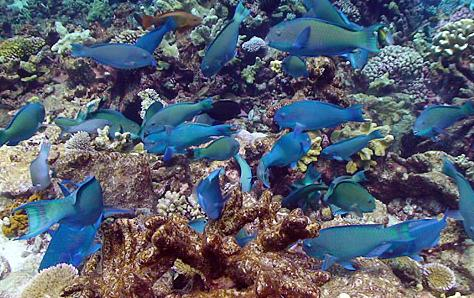Scaridae -Parrotfishes-: (16, 183, 110, 245), (261, 14, 380, 55), (300, 222, 411, 265), (202, 0, 248, 83), (136, 90, 217, 134), (68, 36, 155, 75), (273, 98, 362, 132), (438, 160, 474, 244), (0, 97, 49, 153), (411, 100, 474, 135), (192, 166, 226, 227), (287, 243, 288, 244), (226, 227, 227, 228)
